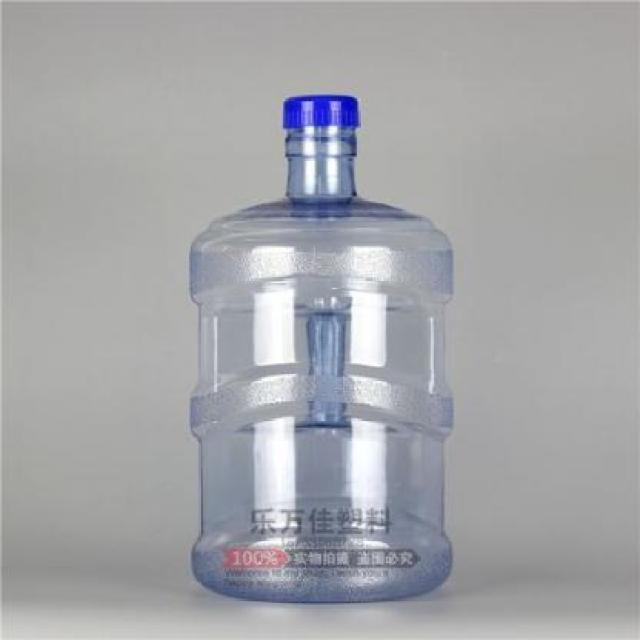coolerbottle: (186, 91, 461, 609)
